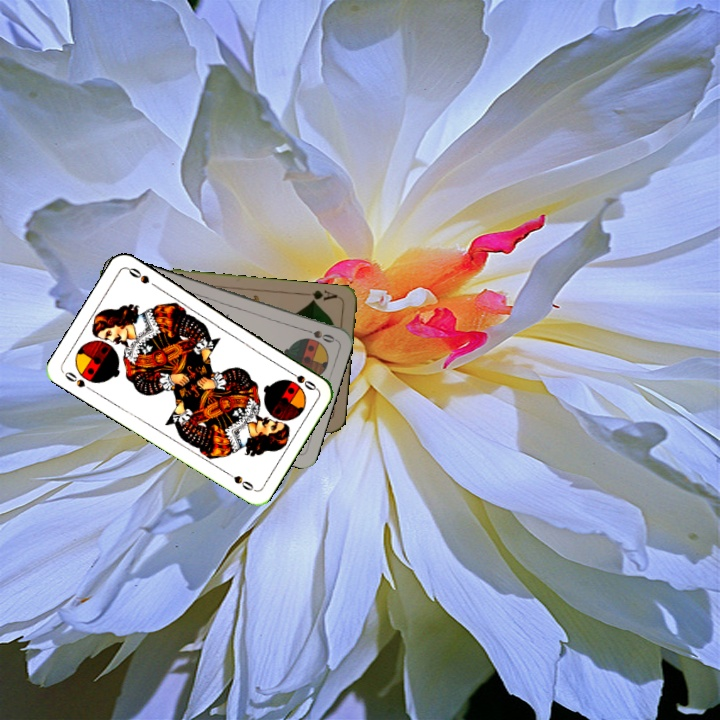GA: (306, 286, 340, 305)
SO: (283, 365, 319, 393), (59, 368, 96, 394), (298, 324, 337, 345)
